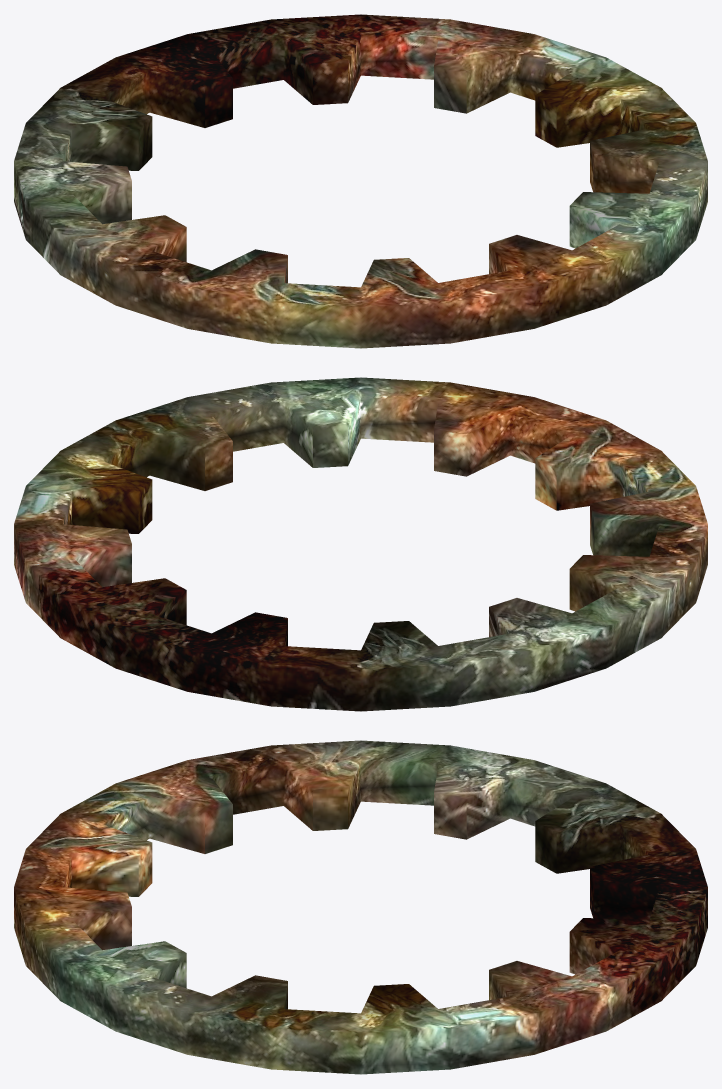
File: Gear1.FBX
The picture shows the model from 3 angles, top to bottom: view 1: azimuth 30°, elevation 25°; view 2: azimuth 150°, elevation 25°; view 3: azimuth 270°, elevation 25°; orthographic projection.
Parts seen in each view (by area): view 1: Gear_Sphere_0; view 2: Gear_Sphere_0; view 3: Gear_Sphere_0.
Boxes of the visible parts, bbox=[...] form: Gear_Sphere_0: bbox=[14, 14, 707, 348]; Gear_Sphere_0: bbox=[14, 377, 707, 711]; Gear_Sphere_0: bbox=[14, 740, 707, 1074].
Bounding box in the file's own units: 2.94 × 0.1904 × 2.94.
Materials: 1 (1 with a texture image).
